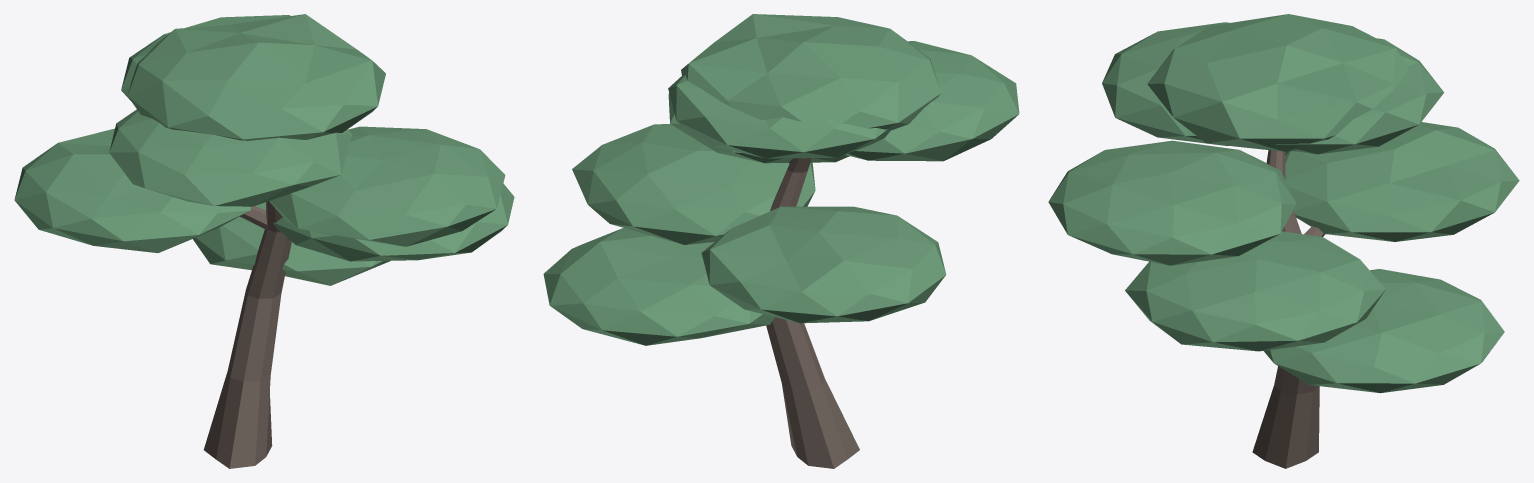
Rendered from tree_pine.glb.
3 renders of one model, left to right at view 1: azimuth 30°, elevation 25°; view 2: azimuth 150°, elevation 25°; view 3: azimuth 270°, elevation 25°, orthographic. The views are drawn at different scales.
Parts seen in each view (by area): view 1: tree_pine; view 2: tree_pine; view 3: tree_pine.
Part boxes in pixels (x1,y1,x2,y2): tree_pine: (14, 14, 514, 468); tree_pine: (543, 14, 1019, 468); tree_pine: (1048, 14, 1519, 468).
Size of the model in its own units: 6.28 by 6.1 by 6.25.
